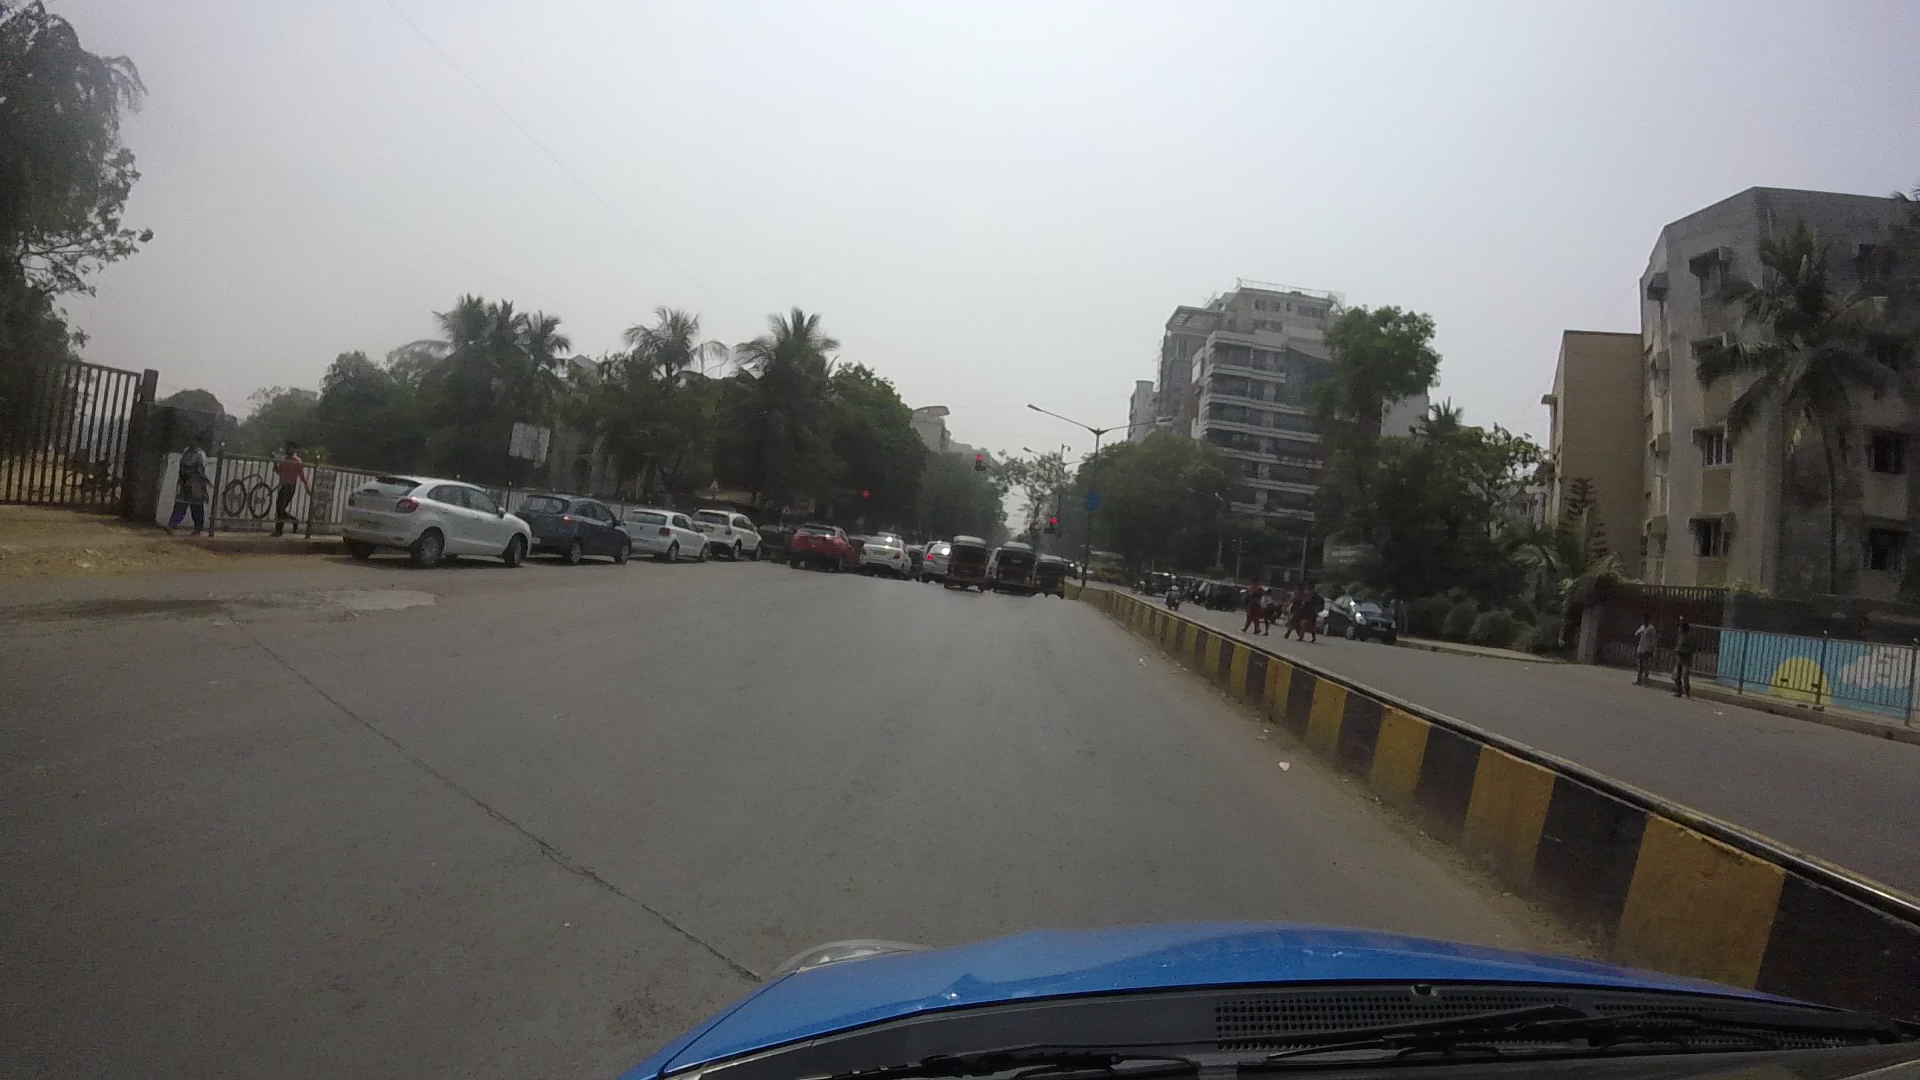bike/scooter: (1158, 572, 1184, 611)
car: (343, 471, 531, 564), (520, 495, 632, 568), (620, 504, 709, 563), (698, 508, 764, 564), (786, 520, 851, 571), (862, 534, 915, 579)
rickshaw: (996, 541, 1039, 593), (947, 534, 985, 591), (1035, 559, 1062, 603)
